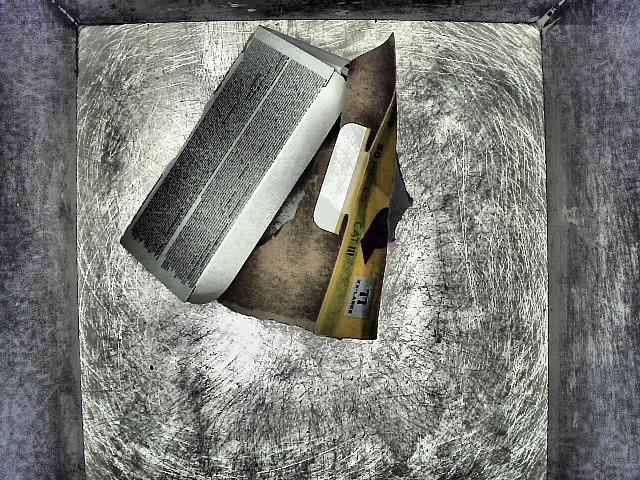Paper: (111, 18, 414, 367)
